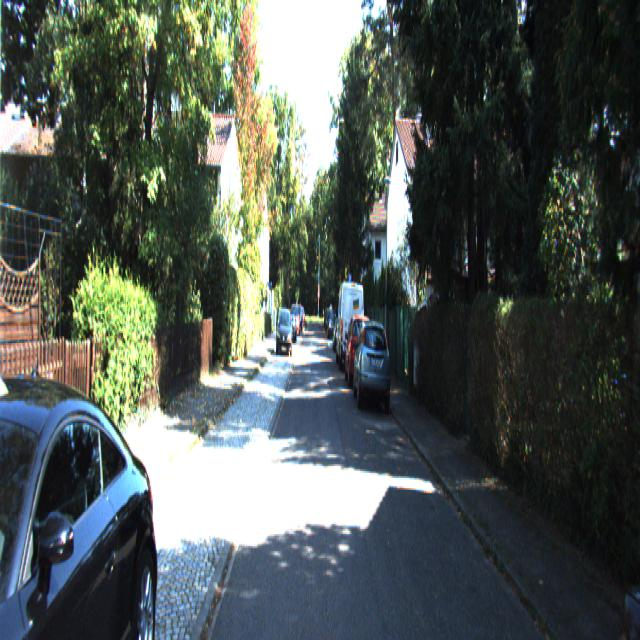Car: (0, 355, 163, 638), (352, 315, 390, 414), (336, 280, 365, 375), (344, 312, 376, 392), (276, 304, 292, 356)
